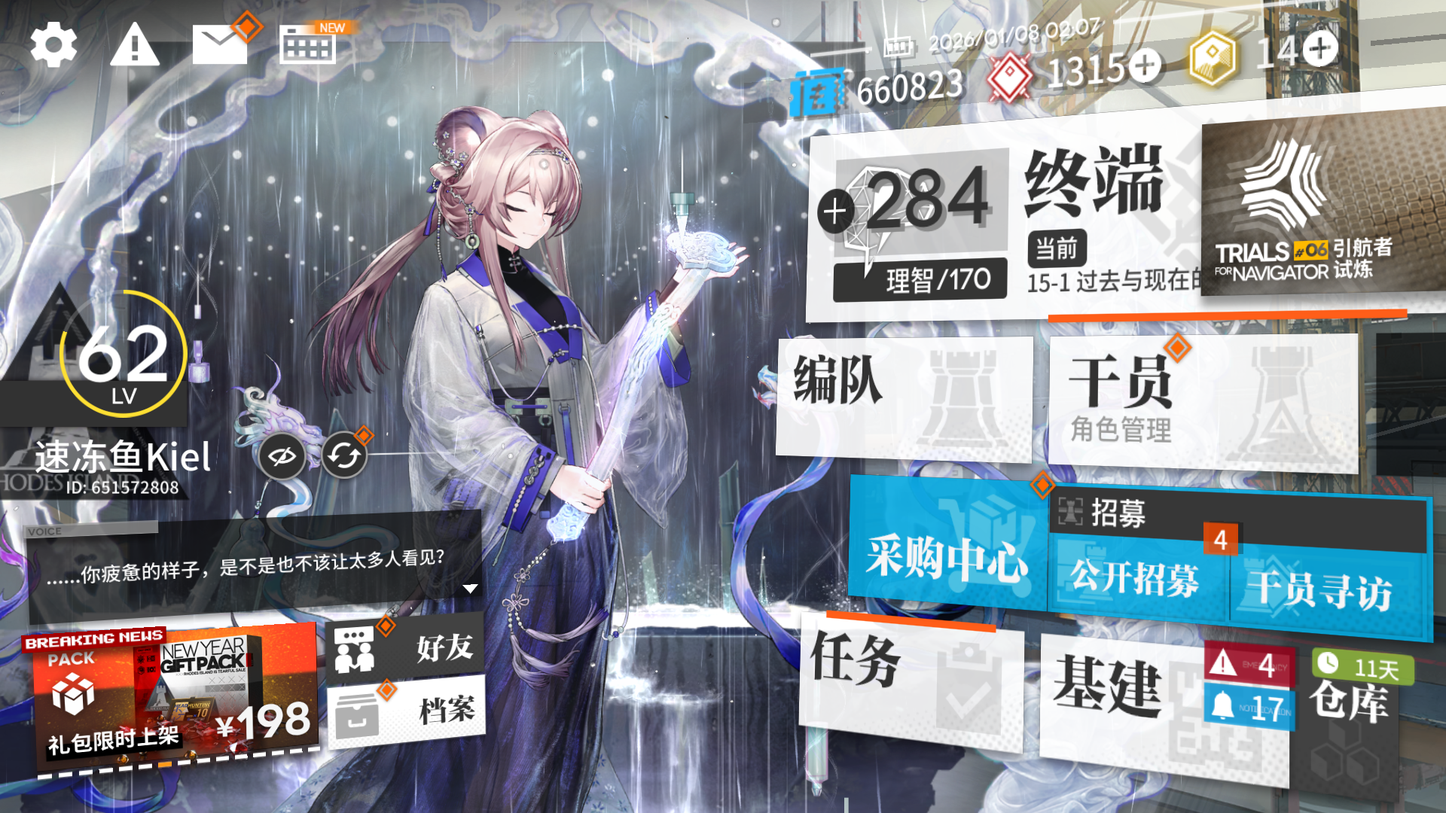home_button: (1017, 126, 1177, 233)
infrastructure_button: (1051, 632, 1286, 766)
